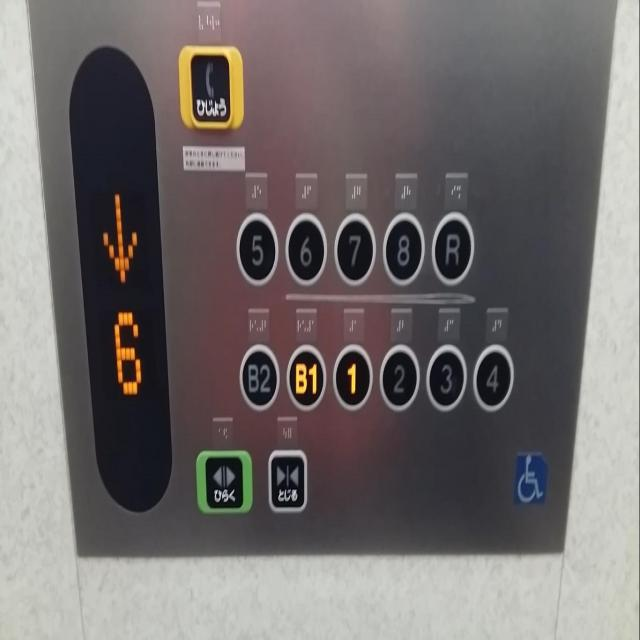1: (330, 335, 374, 417)
2: (377, 339, 421, 421)
3: (422, 338, 468, 418)
4: (470, 338, 515, 417)
5: (232, 208, 282, 288)
6: (281, 209, 329, 292)
7: (328, 205, 378, 292)
8: (380, 201, 427, 290)
B1: (284, 338, 328, 413)
B2: (239, 337, 280, 415)
CH: (513, 451, 546, 504)
R: (426, 201, 477, 294)
call: (175, 36, 245, 135)
close: (264, 440, 310, 522)
led: (68, 44, 174, 513)
open: (192, 441, 256, 518)
